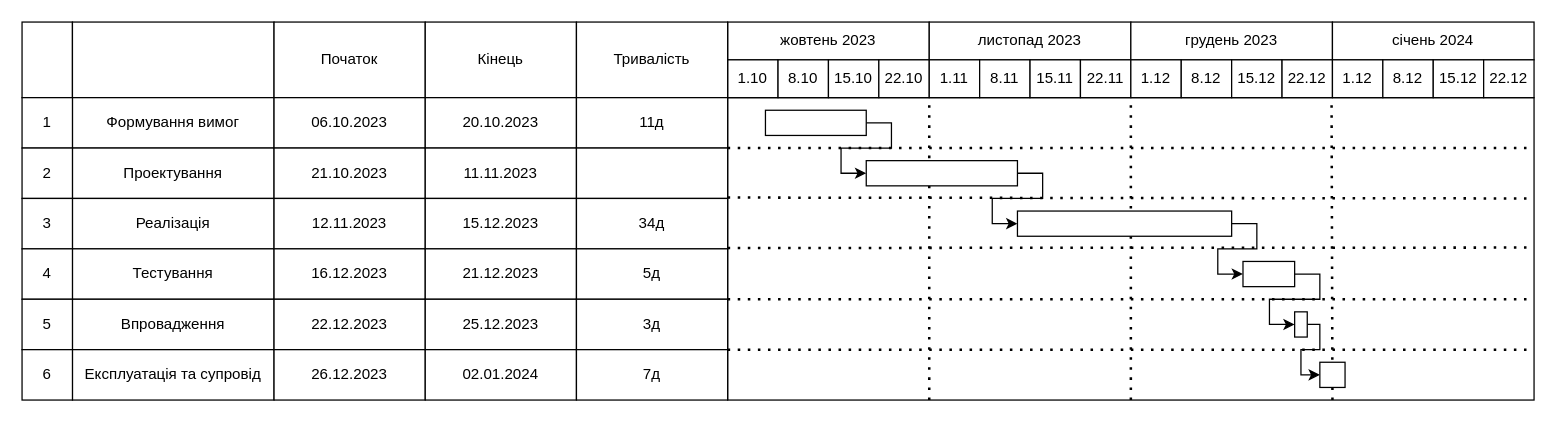
Some shapes in this 1559 by 425 pixel diagram are drawn without their labels. Here are the shapes that lost their labels. From the top down, the centre of each, then its label:
pixel 46 59: ИД
pixel 172 59: Назва задачі
pixel 651 172: 29д
